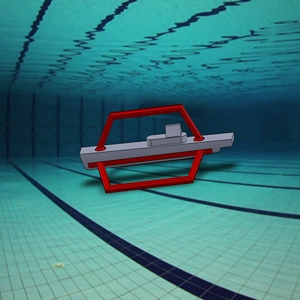submarine: (73, 99, 239, 194)
